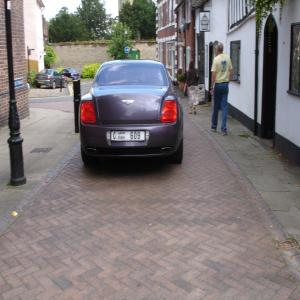Vehicle-registration-plate: (112, 132, 146, 143)
